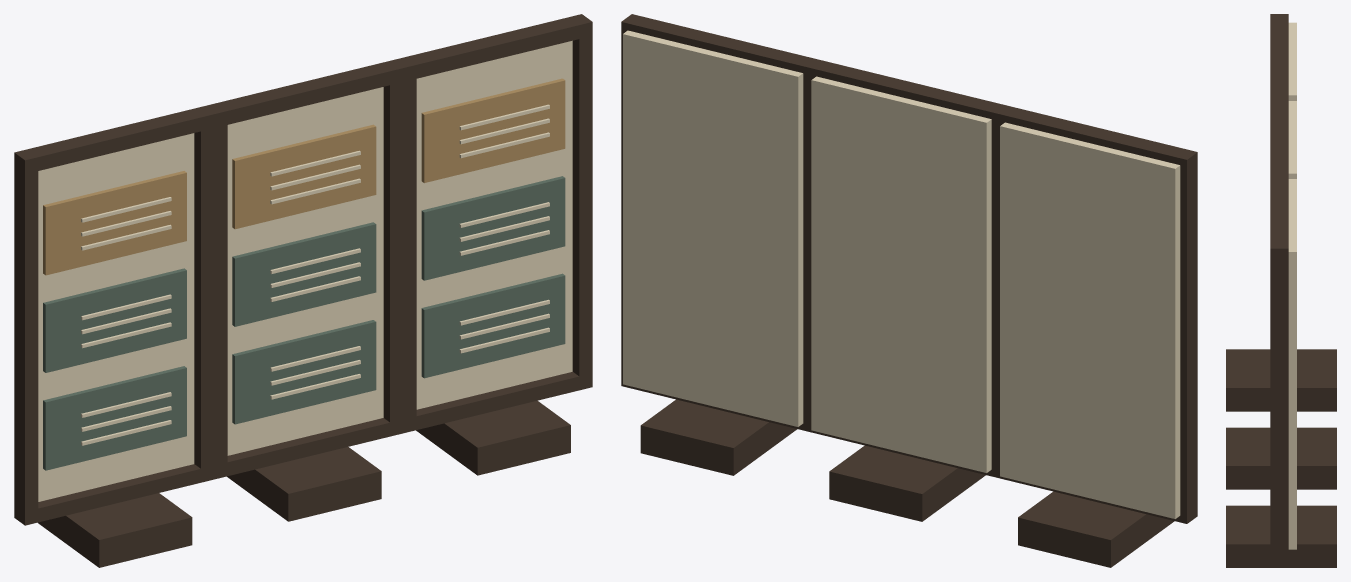
The model's file is 03_History_Screen.fbx.
3 views of the same model, side by side, from view 1: azimuth 30°, elevation 25°; view 2: azimuth 150°, elevation 25°; view 3: azimuth 270°, elevation 25° (orthographic). The views are drawn at different scales.
Parts seen in each view (by area): view 1: Structure.002; view 2: Structure.002; view 3: Structure.002.
Part boxes in pixels (<box>): Structure.002: <box>14,14,592,567</box>; Structure.002: <box>621,14,1197,567</box>; Structure.002: <box>1226,14,1336,567</box>.
Bounding box in the file's own units: 426 × 287 × 85.
